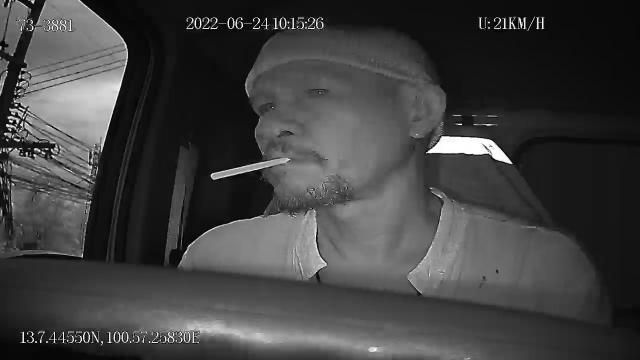SafeDriving: (298, 76, 339, 103)
Smoking: (210, 155, 290, 181)
